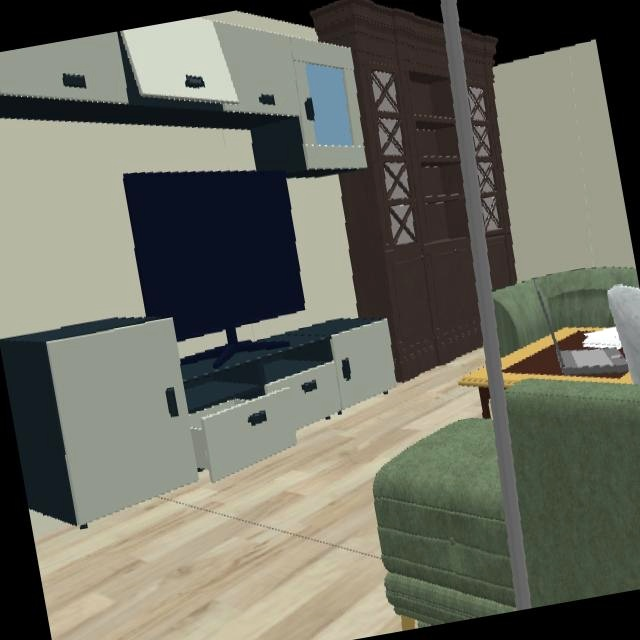book: (584, 327, 622, 350)
bookshelf: (311, 1, 517, 383)
cabinet: (0, 317, 397, 527), (0, 10, 368, 178)
laptop: (535, 281, 628, 377)
monitor: (121, 171, 300, 342)
pillow: (608, 286, 640, 386)
sofa: (504, 379, 640, 608), (376, 420, 515, 626), (492, 267, 639, 367)
table: (501, 326, 632, 389), (458, 366, 487, 388)
